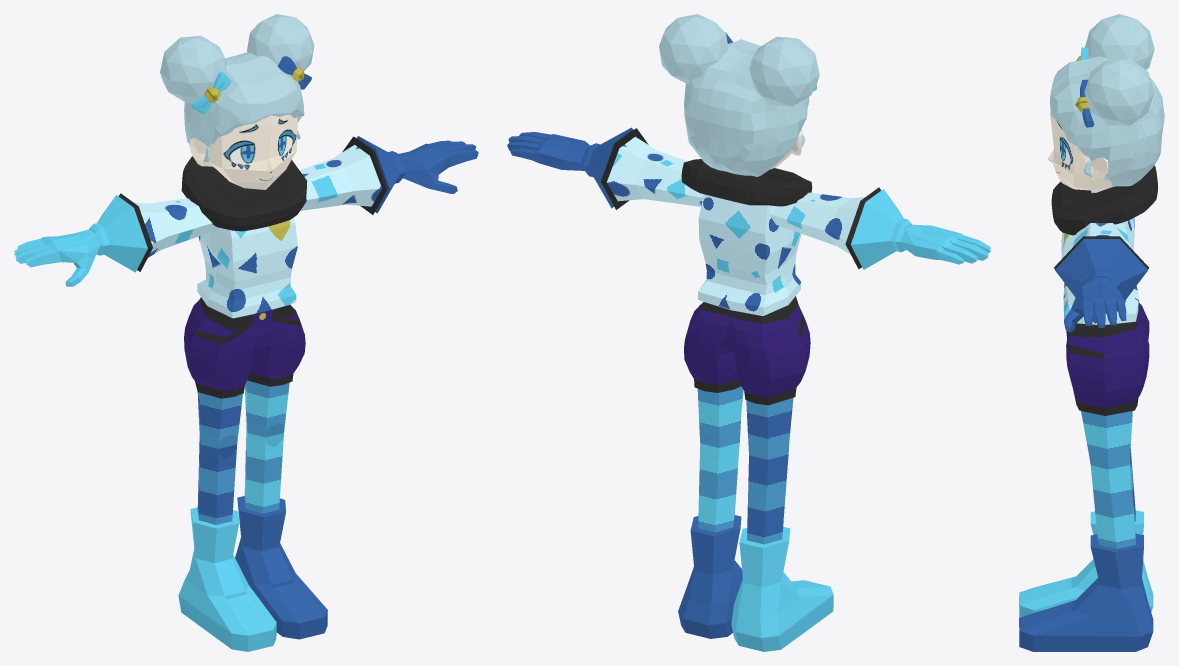
File: model_soleil.gltf
The picture shows the model from 3 angles, left to right: view 1: azimuth 30°, elevation 25°; view 2: azimuth 150°, elevation 25°; view 3: azimuth 270°, elevation 25°; orthographic projection. The views are drawn at different scales.
Visible parts, largest first — view 1: boots (tall flat), body, puffy denim, sweater (body), sweater (sleeves), hair (lumpy), hair (buns), collar, arms, face, gloves (cuffs), hair (bows) (+1 smaller); view 2: boots (tall flat), body, hair (lumpy), puffy denim, sweater (body), sweater (sleeves), hair (buns), arms, gloves (cuffs), collar, gloves(ruffles); view 3: boots (tall flat), puffy denim, hair (lumpy), body, hair (buns), collar, gloves (cuffs), arms, sweater (body), face, sweater (sleeves), hair (bows) (+2 smaller).
Part boxes in pixels (x1,y1,x2,y2): boots (tall flat): (178,496,327,651); body: (197,136,289,524); puffy denim: (184,297,305,398); sweater (body): (197,217,297,318); sweater (sleeves): (134,145,381,257); hair (lumpy): (184,52,304,167); hair (buns): (160,14,314,102); collar: (181,156,307,231); arms: (14,140,478,286); face: (221,114,297,189); gloves (cuffs): (89,136,406,272); hair (bows): (191,56,311,113); boots (tall flat): (678,515,833,651); body: (697,128,801,544); hair (lumpy): (684,39,809,176); puffy denim: (684,296,810,405); sweater (body): (698,194,801,315); sweater (sleeves): (607,136,864,254); hair (buns): (659,14,819,106); arms: (507,132,990,264); gloves (cuffs): (581,127,911,269); collar: (681,159,812,206); gloves(ruffles): (601,128,881,269); boots (tall flat): (1019,510,1153,651); puffy denim: (1066,303,1149,415); hair (lumpy): (1050,56,1164,186); body: (1074,145,1135,548); hair (buns): (1084,14,1154,125); collar: (1051,165,1157,235); gloves (cuffs): (1055,239,1147,301); arms: (1064,277,1126,332); sweater (body): (1061,217,1139,324); face: (1048,110,1073,188); sweater (sleeves): (1073,223,1130,246); hair (bows): (1075,47,1094,127).
Bounding box in the file's own units: 1.87 × 2.25 × 0.5043.
Materials: 5 (5 with a texture image).
